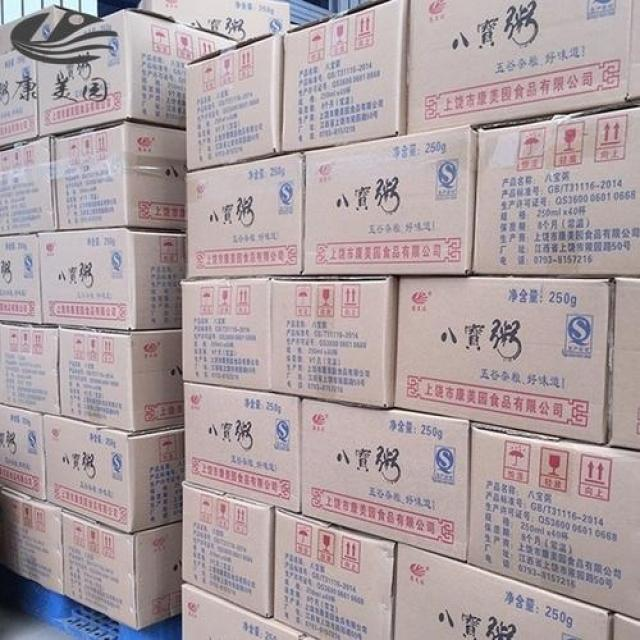box: (393, 277, 609, 446), (468, 422, 639, 622), (404, 0, 639, 131), (469, 102, 639, 275), (300, 399, 470, 559), (304, 125, 478, 277), (33, 10, 241, 137), (392, 542, 614, 637), (282, 1, 409, 152), (269, 275, 401, 407), (182, 383, 302, 515), (46, 415, 182, 531), (272, 512, 396, 639), (36, 227, 186, 329), (185, 153, 304, 279), (60, 509, 185, 628), (55, 122, 187, 230), (185, 31, 283, 172), (57, 326, 183, 430), (182, 486, 273, 620), (178, 277, 271, 391), (97, 0, 292, 39), (179, 581, 312, 637), (1, 484, 62, 592), (0, 133, 61, 237), (607, 276, 639, 449), (0, 324, 61, 414), (1, 4, 102, 53), (1, 402, 46, 500), (1, 45, 39, 149), (0, 235, 41, 327), (612, 612, 639, 639)
